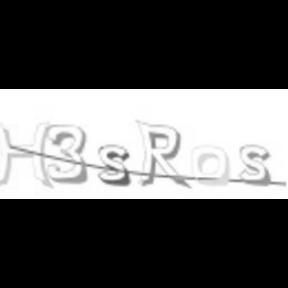3: (47, 122, 87, 186)
H: (0, 119, 50, 188)
R: (135, 118, 189, 188)
o: (189, 144, 231, 188)
s: (96, 143, 130, 187), (239, 144, 271, 186)
